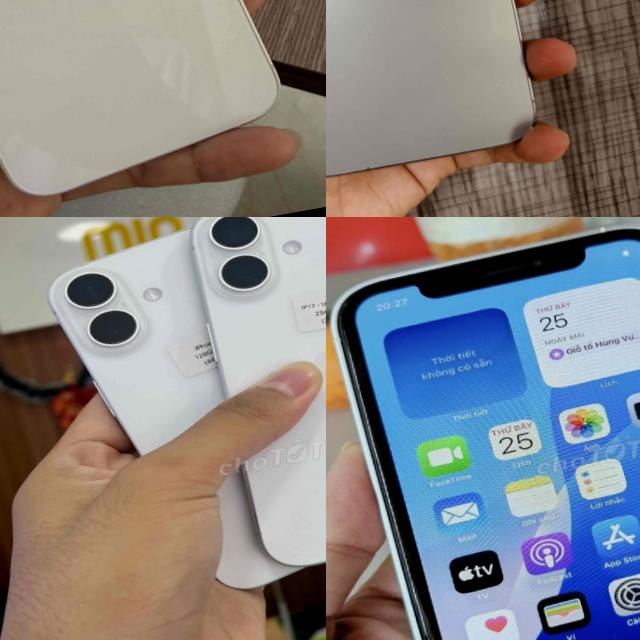gen_14: (0, 0, 302, 217)
gen_15: (326, 0, 553, 206)
gen_17: (185, 217, 326, 584)
gen_x_xs: (332, 227, 640, 640)
scratch: (332, 294, 364, 317)
